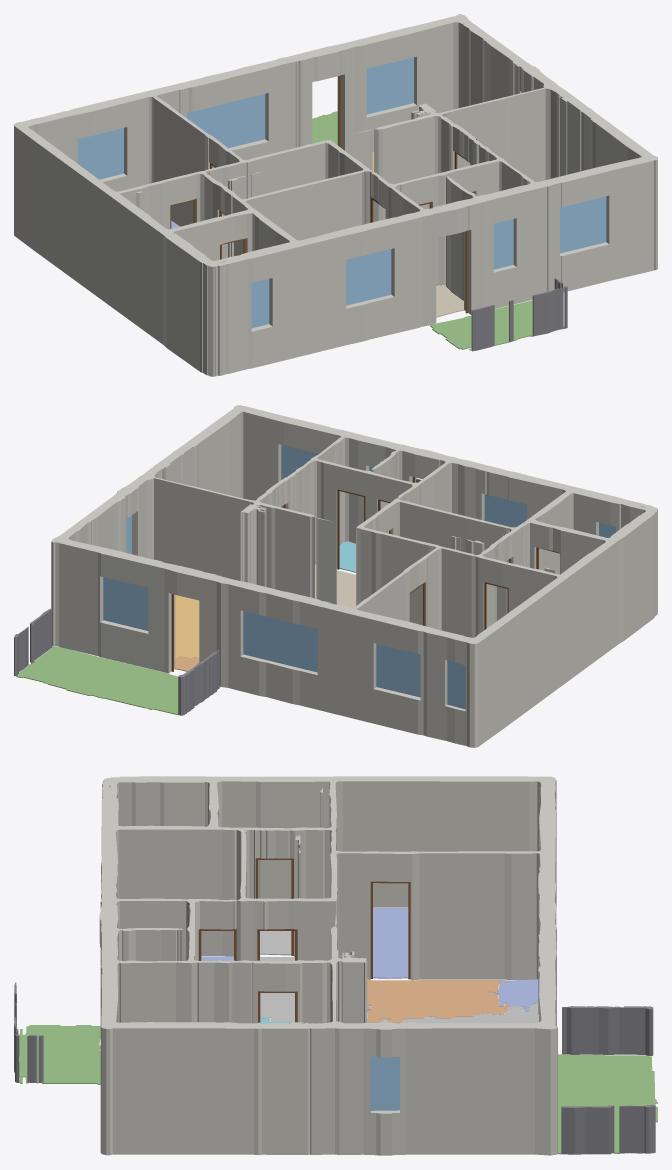
3 views of the same model, one above another, from view 1: azimuth 30°, elevation 25°; view 2: azimuth 150°, elevation 25°; view 3: azimuth 270°, elevation 25° (orthographic). The views are drawn at different scales.
Parts seen in each view (by area): view 1: walls, railings, window_12, window_13, floor_0_Outdoor, window_18, window_17, window_11, window_19, window_16, floor_1_Outdoor, floor_18_Entry; view 2: walls, floor_1_Outdoor, railings, window_12, window_13, window_11, floor_3_Kitchen, window_17, window_14, floor_19_Entry, window_18; view 3: walls, railings, floor_1_Outdoor, floor_6_Living_Room, floor_0_Outdoor, floor_12_Bed_Room, window_15, floor_23_Undefined, floor_21_Undefined, floor_11_Bed_Room, floor_22_Undefined, door_1.
Boxes of the visible parts, x1,y1,x2,y2 form: walls: (14,14,657,376); railings: (471,278,567,351); window_12: (187,94,265,148); window_13: (366,57,413,114); floor_0_Outdoor: (430,300,564,350); window_18: (560,196,606,253); window_17: (346,249,391,305); window_11: (77,128,123,179); window_19: (493,219,513,269); window_16: (251,279,269,328); floor_1_Outdoor: (312,111,337,144); floor_18_Entry: (436,285,464,317); walls: (51,405,657,747); floor_1_Outdoor: (16,646,220,714); railings: (14,478,421,715); window_12: (243,611,317,672); window_13: (103,577,148,630); window_11: (376,643,420,697); floor_3_Kitchen: (175,595,199,659); window_17: (484,494,526,527); window_14: (447,660,465,709); floor_19_Entry: (315,564,355,608); window_18: (281,445,318,479); walls: (99,776,557,1155); railings: (14,982,655,1154); floor_1_Outdoor: (558,1054,657,1154); floor_6_Living_Room: (367,980,507,1022); floor_0_Outdoor: (19,1025,100,1084); floor_12_Bed_Room: (373,908,408,978); window_15: (371,1056,399,1110); floor_23_Undefined: (367,1002,538,1023); floor_21_Undefined: (260,956,294,1021); floor_11_Bed_Room: (489,979,538,1011); floor_22_Undefined: (260,931,291,955); door_1: (370,881,410,979).
Bounding box in the file's own units: 11.62 × 2.72 × 12.48.
